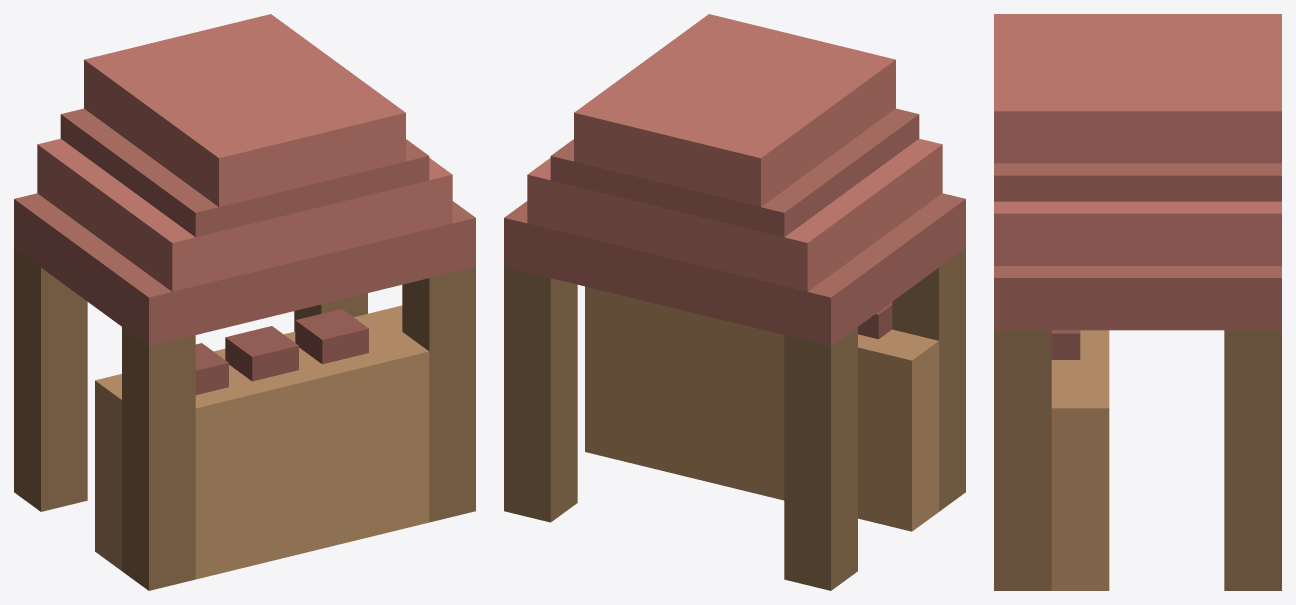
The model's file is tenderete_comida_01.glb.
3 renders of one model, left to right at view 1: azimuth 30°, elevation 25°; view 2: azimuth 150°, elevation 25°; view 3: azimuth 270°, elevation 25°, orthographic. The views are drawn at different scales.
Parts seen in each view (by area): view 1: tenderete_comida_01; view 2: tenderete_comida_01; view 3: tenderete_comida_01.
Part boxes in pixels (box(x1,y1,x2,y2)): tenderete_comida_01: box(14, 14, 475, 590); tenderete_comida_01: box(504, 14, 965, 590); tenderete_comida_01: box(994, 14, 1281, 590).
Size of the model in its own units: 1.4 by 1.7 by 1.
